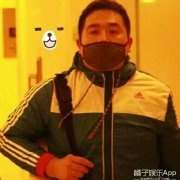Mask: (81, 18, 132, 69)
